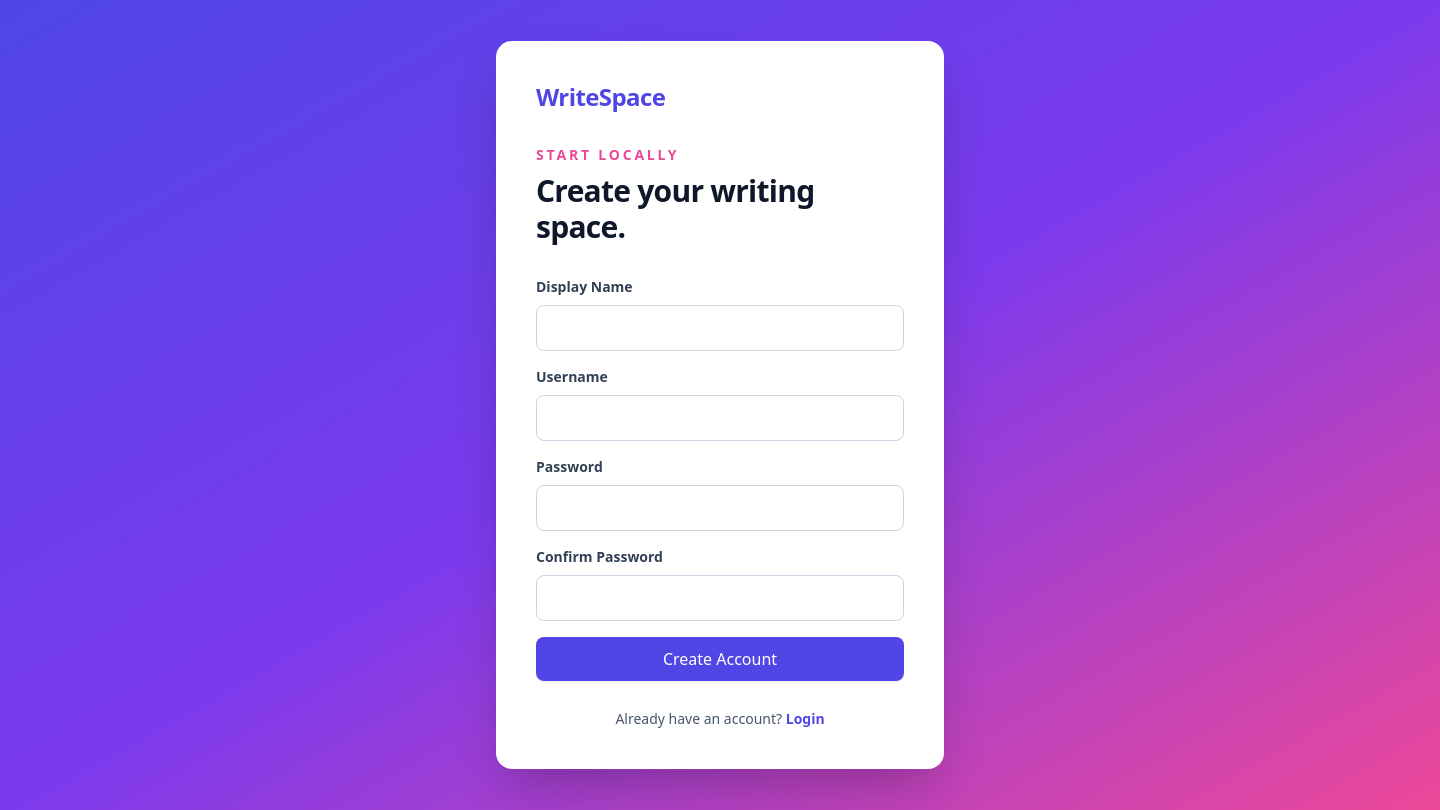
Test case: authentication pages › blocks duplicate names and mismatched confirmations with inline errors
In the field labelled "Display Name": {"x": 720, "y": 328} [536, 305, 904, 351], type "A Writer"
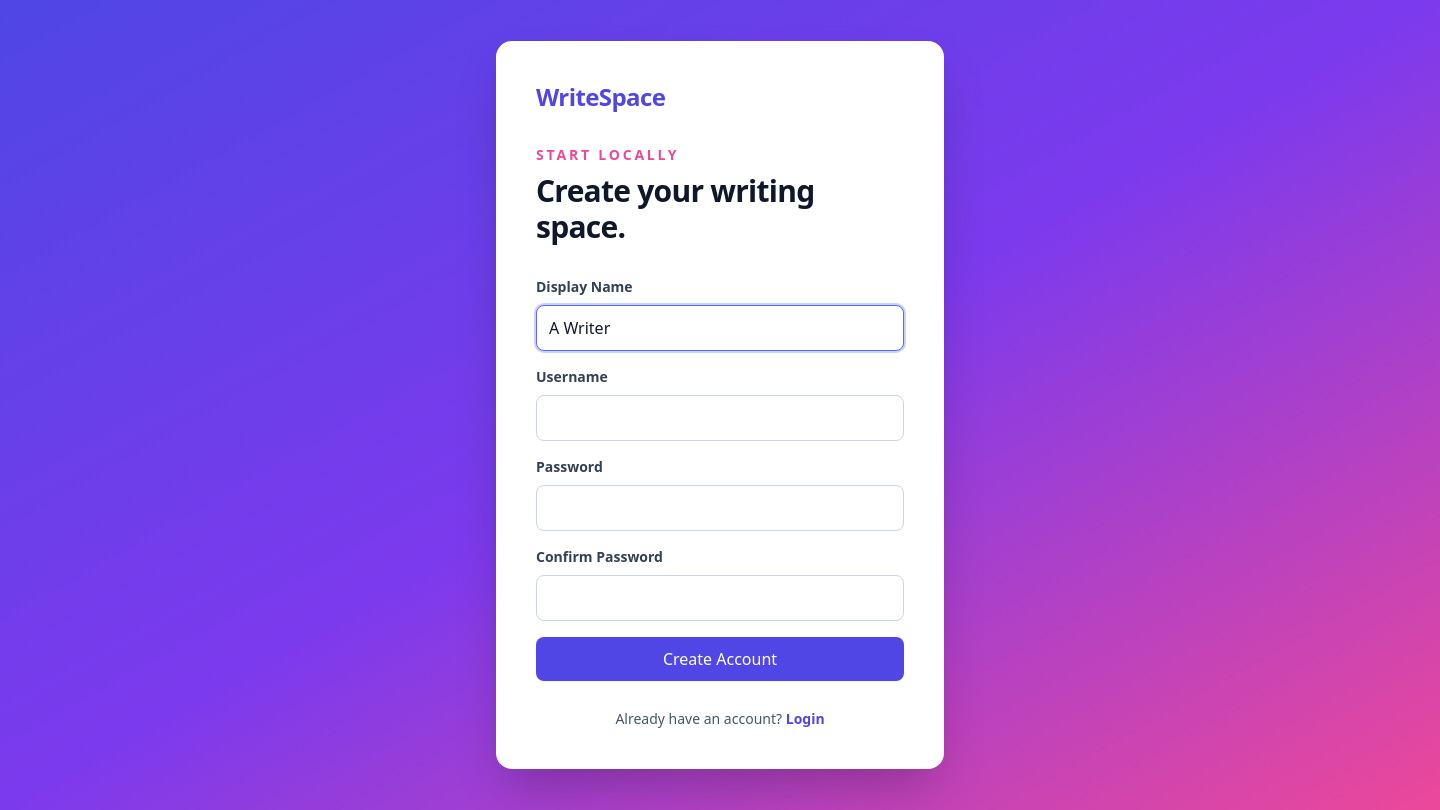
In the field labelled "Username": {"x": 720, "y": 418} [536, 395, 904, 441], type "writer"
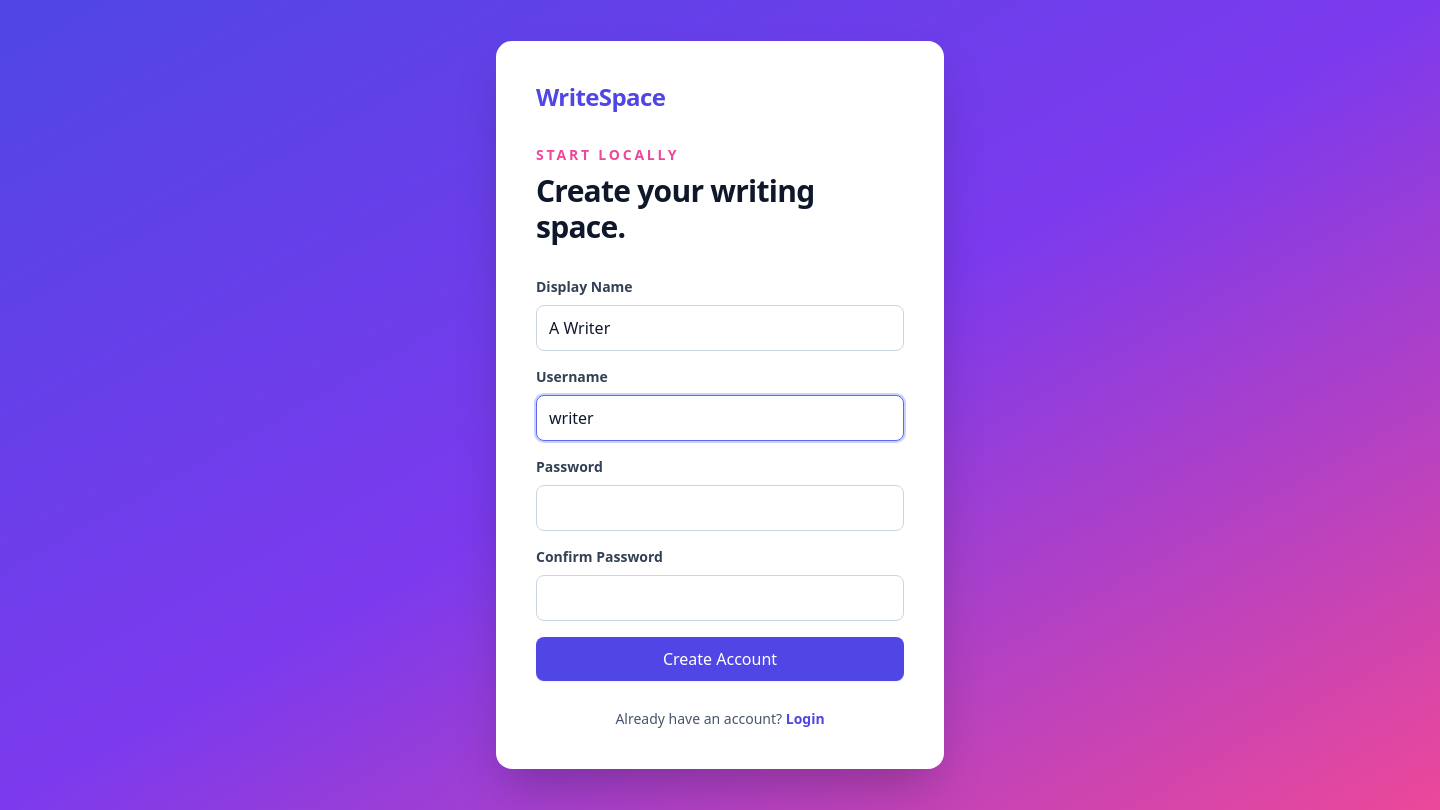
In the password field labelled "Password": {"x": 720, "y": 508} [536, 485, 904, 531], type "one"
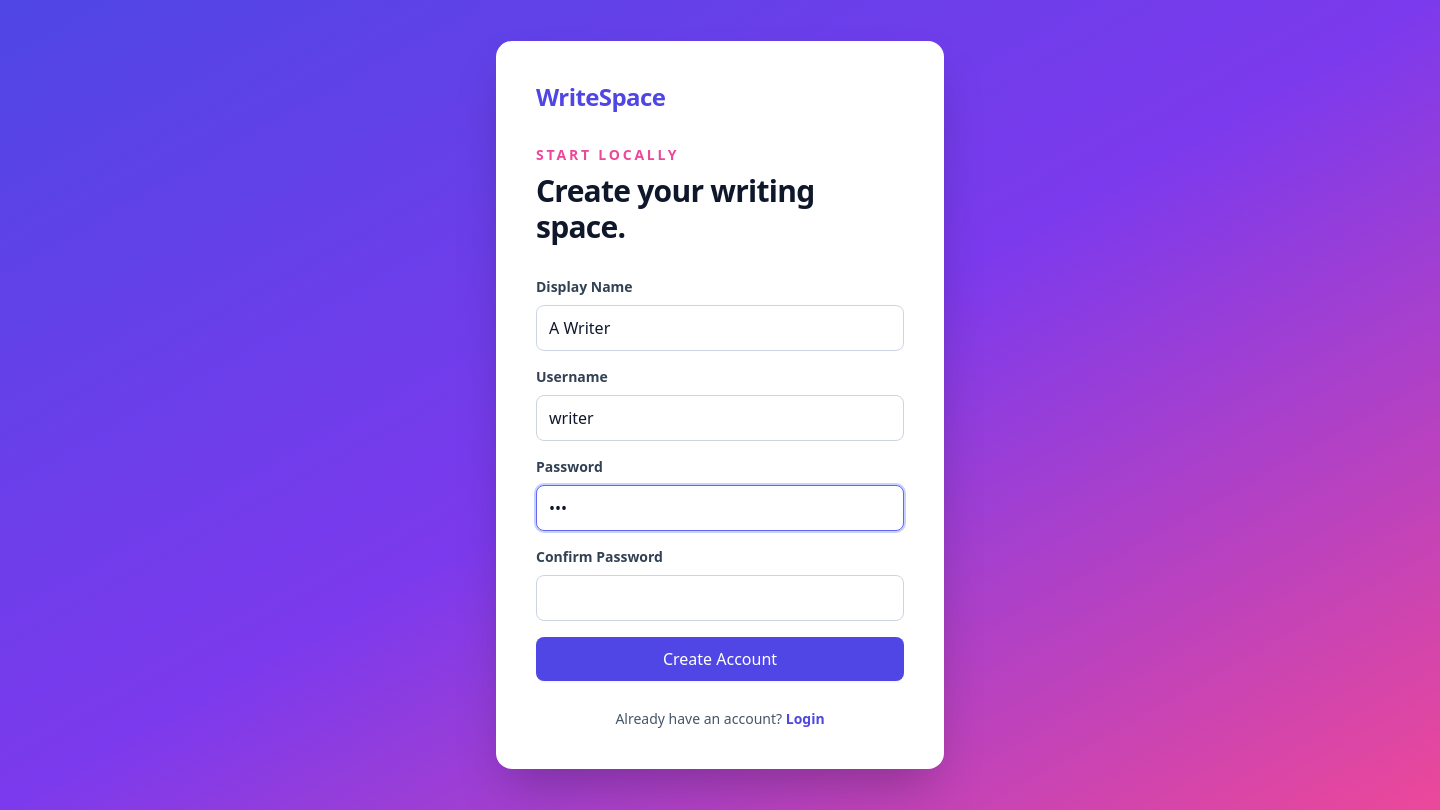
In the password field labelled "Confirm Password": {"x": 720, "y": 598} [536, 575, 904, 621], type "two"
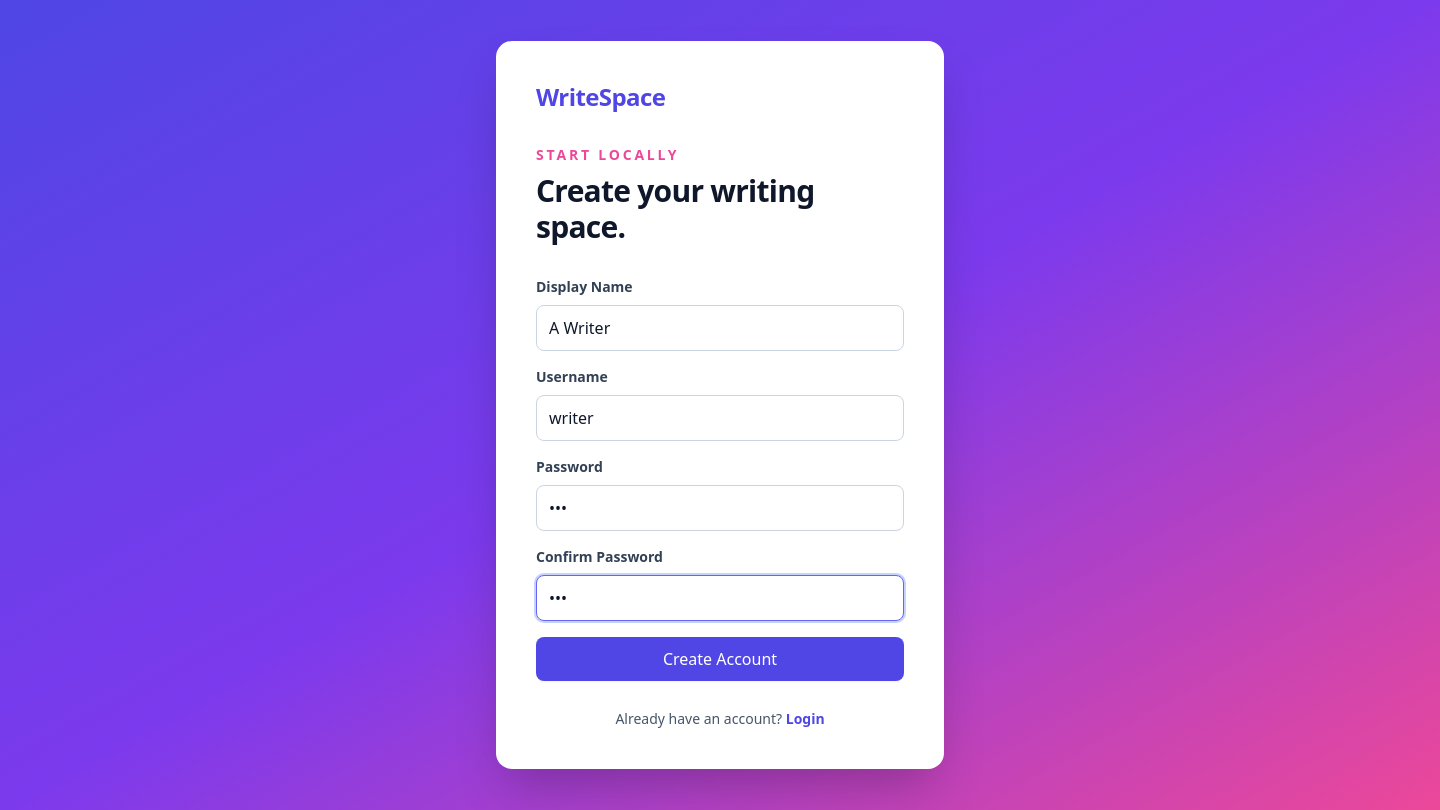
Click the button "Create Account": {"x": 720, "y": 659} [536, 637, 904, 681]
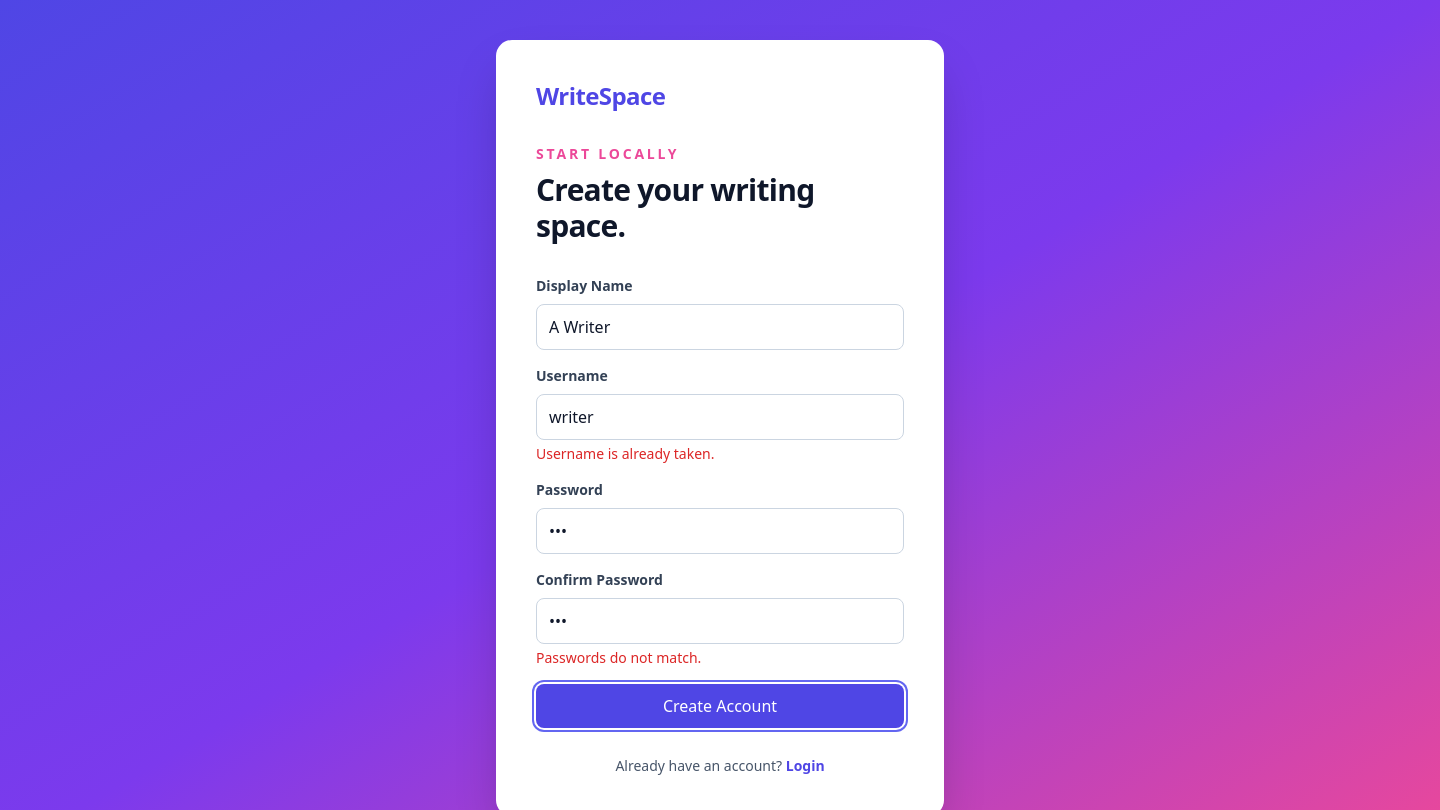
expect the text "Username is already taken." is shown: met, box [536, 444, 714, 463]
expect the text "Passwords do not match." is shown: met, box [536, 648, 701, 667]
